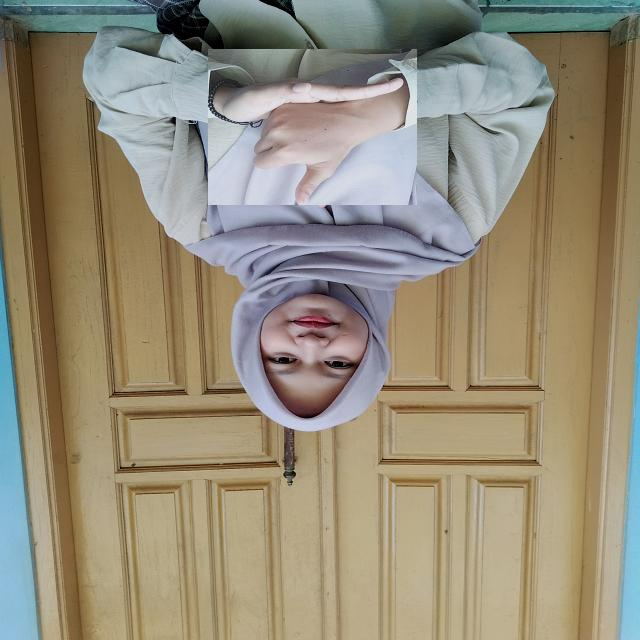cantik: (208, 49, 417, 205)
